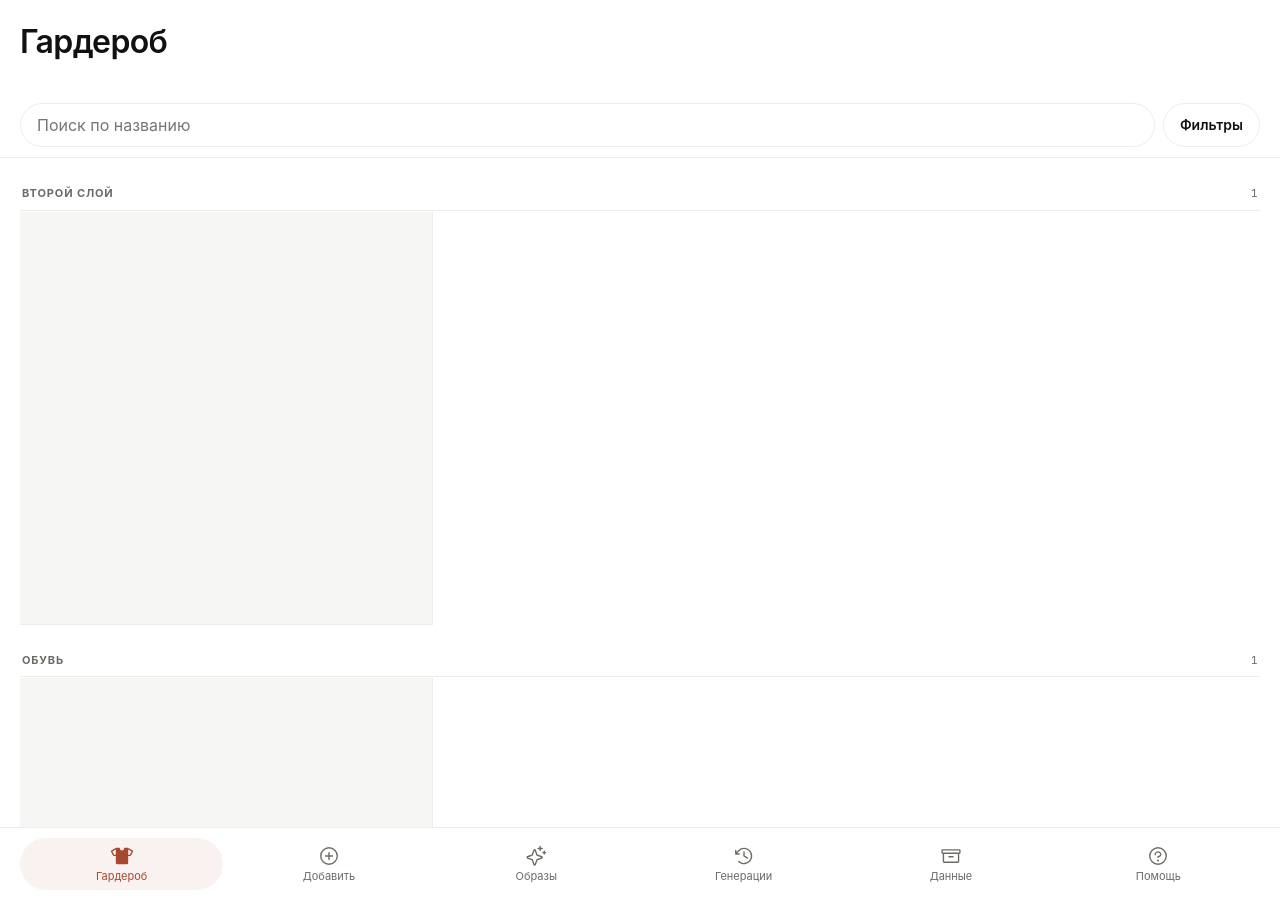
Test case: Экран гардероба (T13) › фильтры открываются шторкой: верхняя категория даёт плоский результат и сброс
The image size is (1280, 900).
Expected: the element "Второй слой" is shown, [20, 186, 1260, 625]
Expected: the element "Верхние категории" is not shown
Click the button "Фильтры".
click(1211, 125)  # box [1163, 103, 1260, 147]
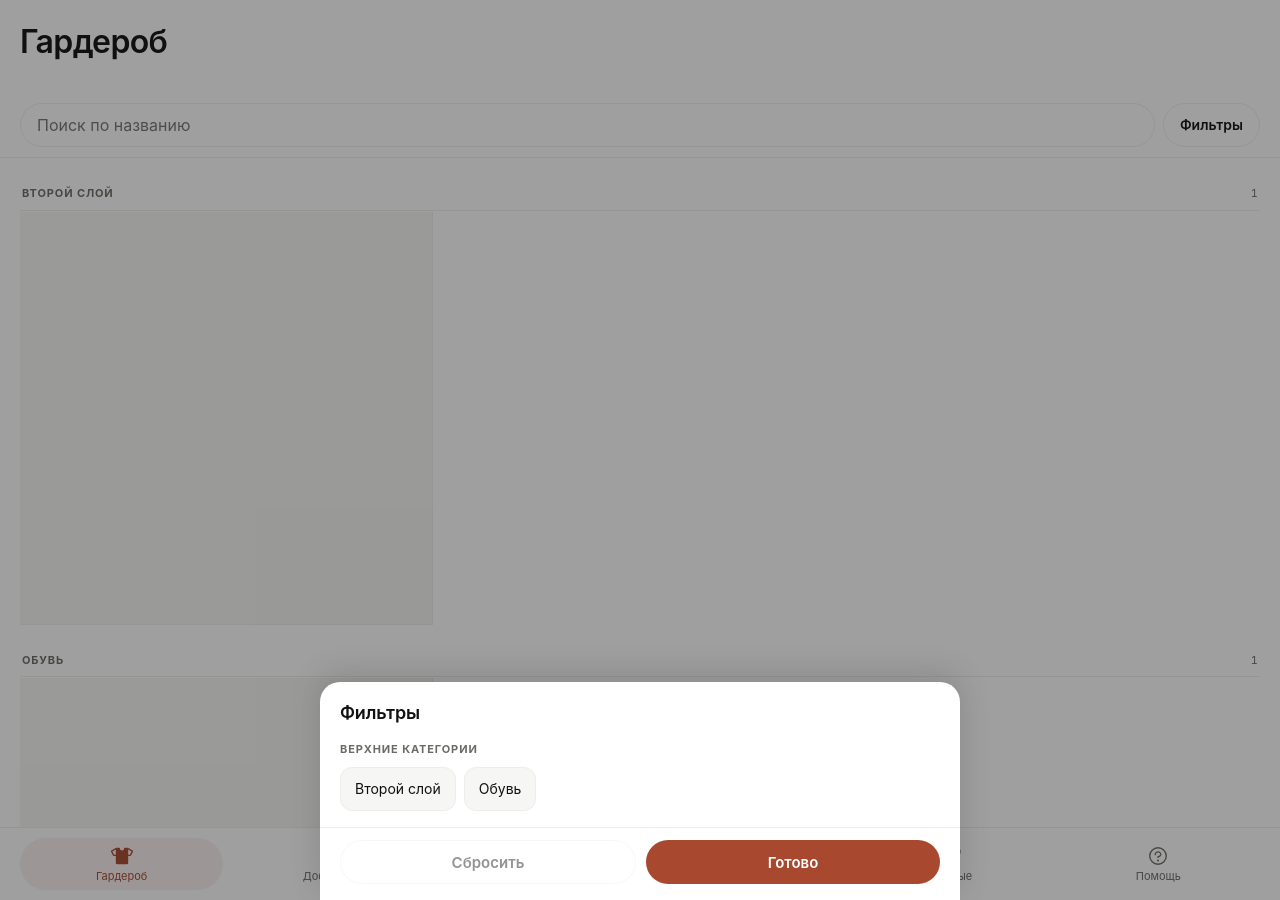
Click the button "Обувь".
click(500, 789)  # box [464, 767, 536, 811]
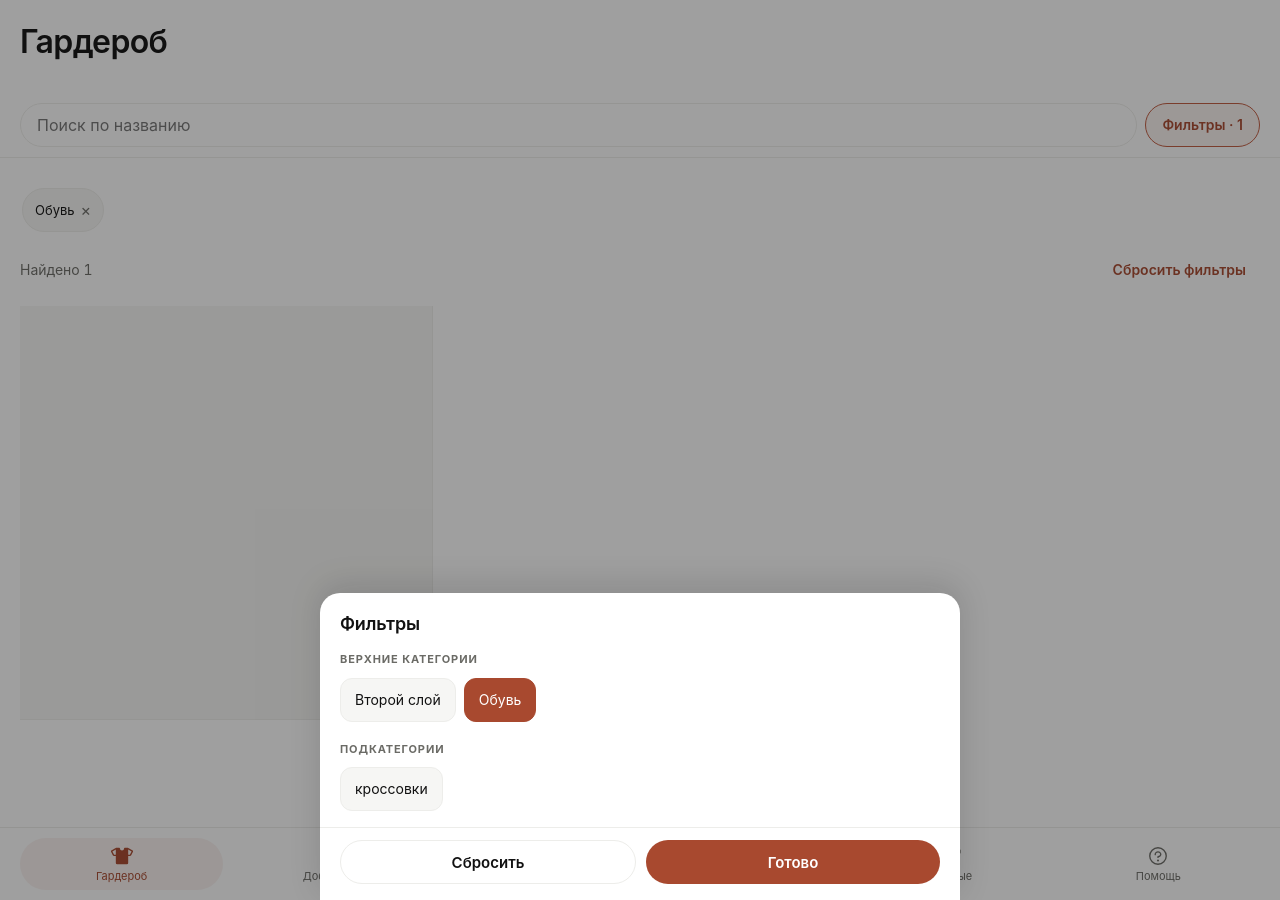
Click the button "Готово".
click(793, 862)  # box [646, 840, 940, 884]
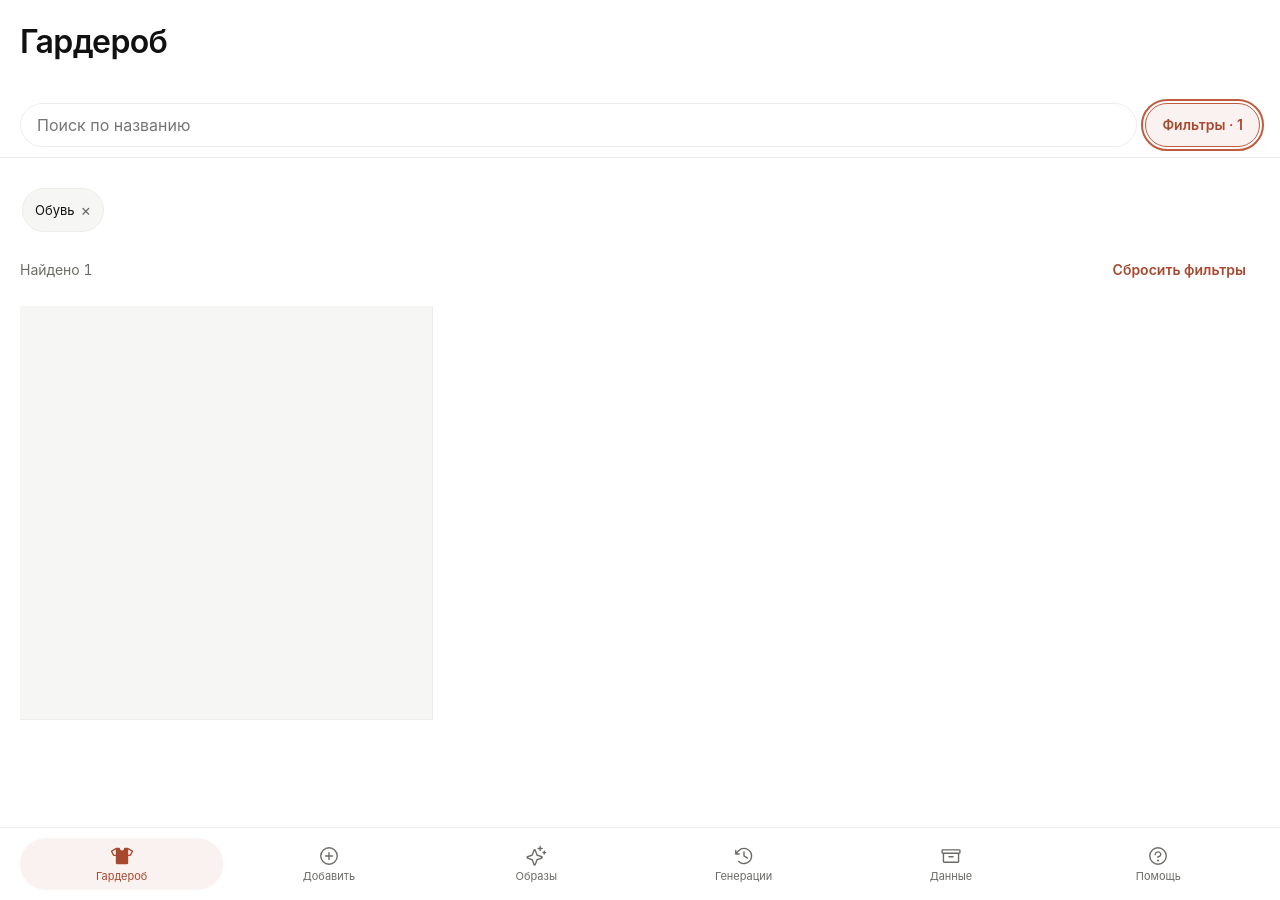
Result: the text "Найдено 1" is shown at [20, 260, 93, 280]
Result: the button "Фильтры · 1" is shown at [1145, 103, 1260, 147]
Result: the button "Второй слой" is gone
Click the button "Сбросить фильтры".
click(1179, 270)  # box [1099, 248, 1260, 292]
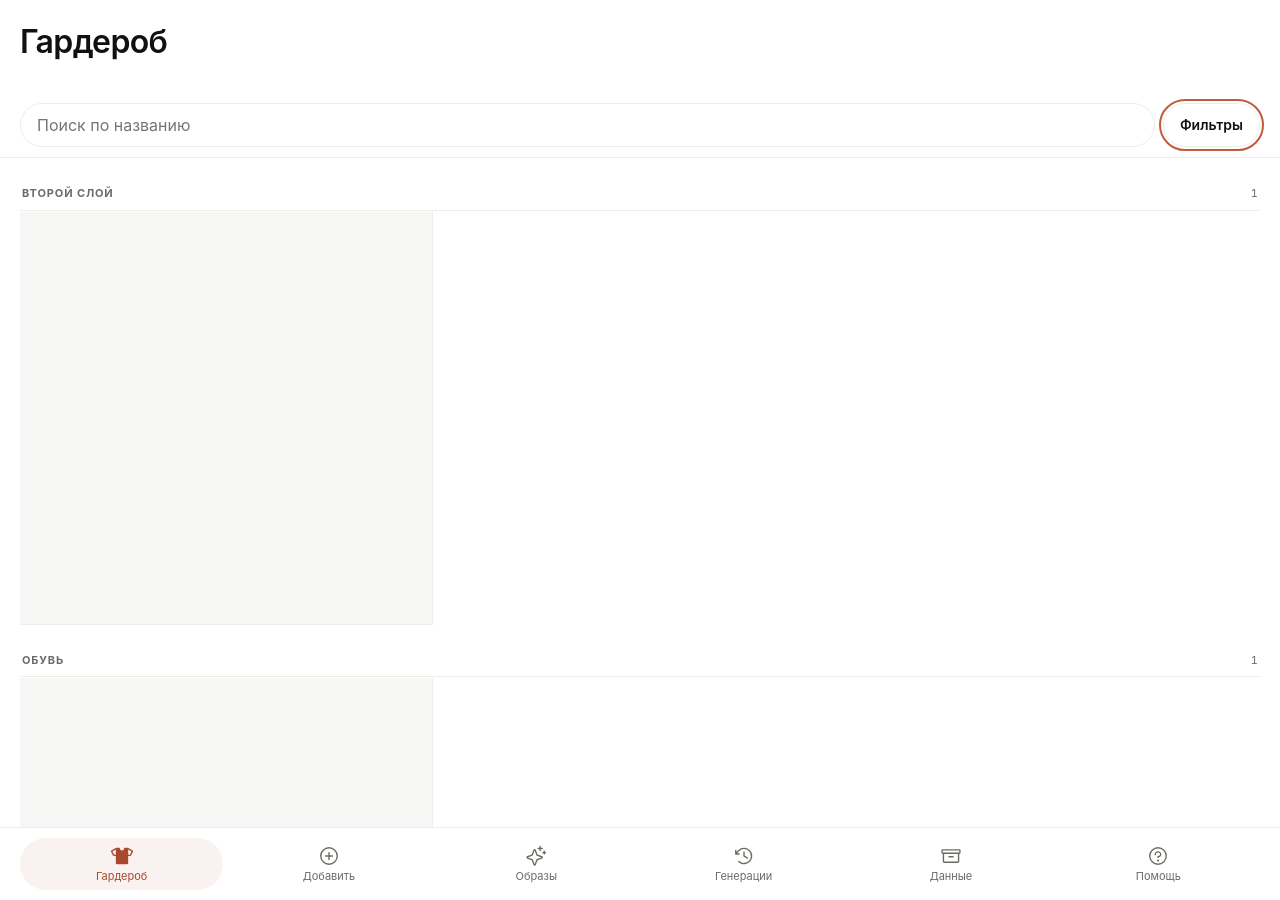
Expected: the button "Фильтры" is shown, [1163, 103, 1260, 147]
Result: the element "Второй слой" is shown at [20, 186, 1260, 625]
Result: the text "Найдено 1" is gone
